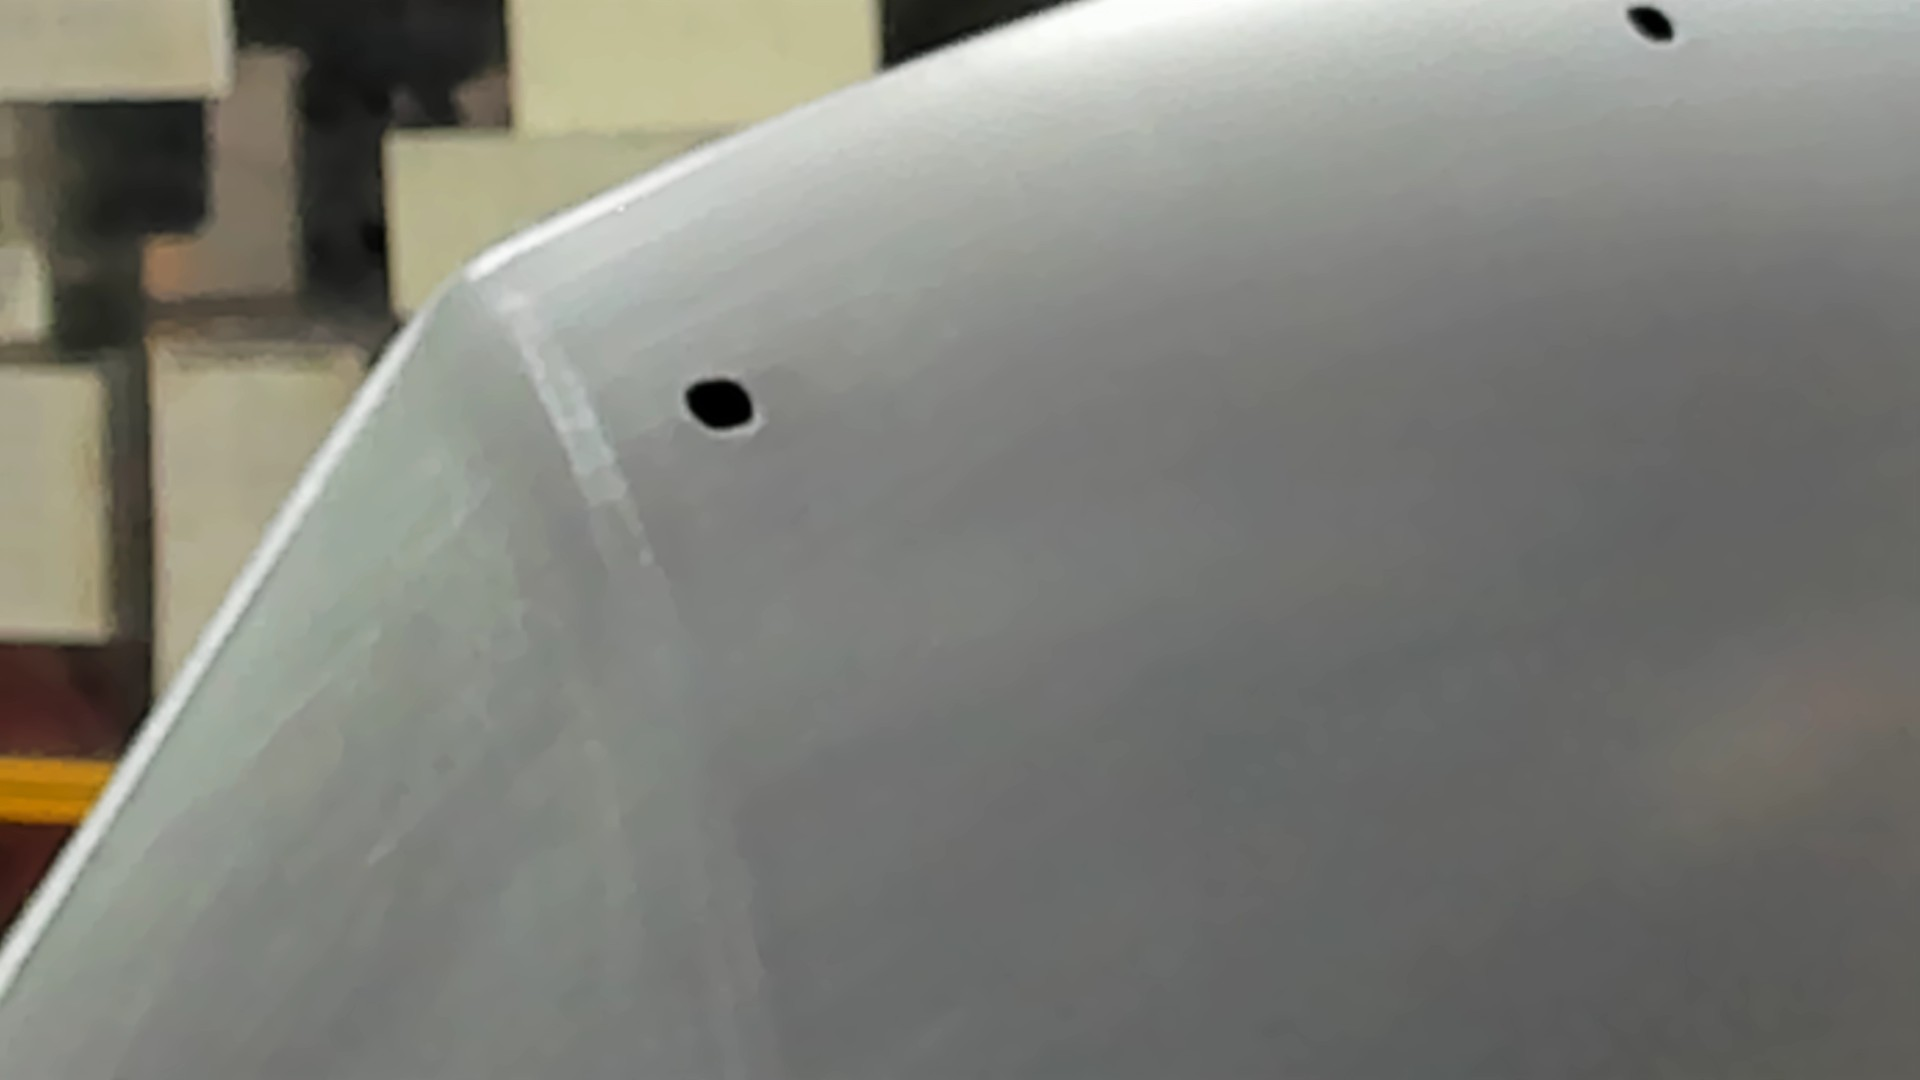amorfo: (676, 372, 765, 444), (1615, 1, 1683, 49)
